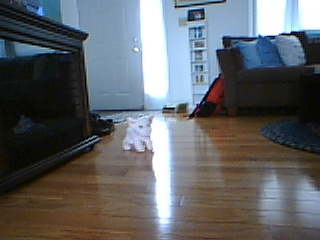piggy: (121, 115, 157, 153)
